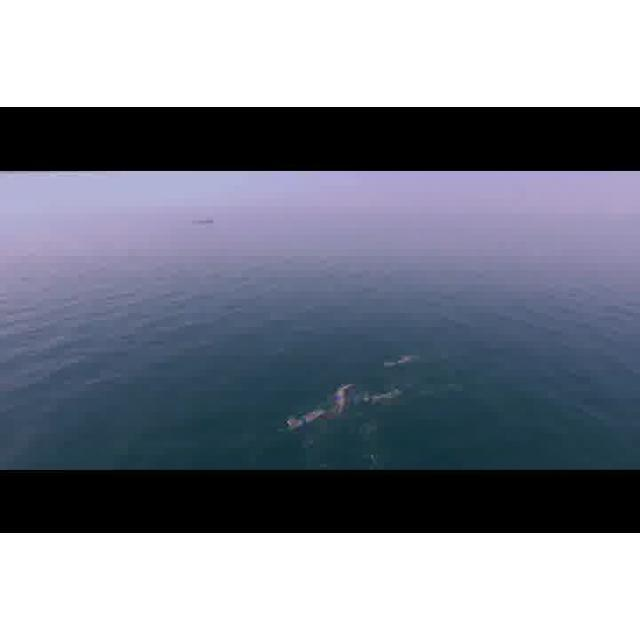human: (285, 405, 324, 433)
